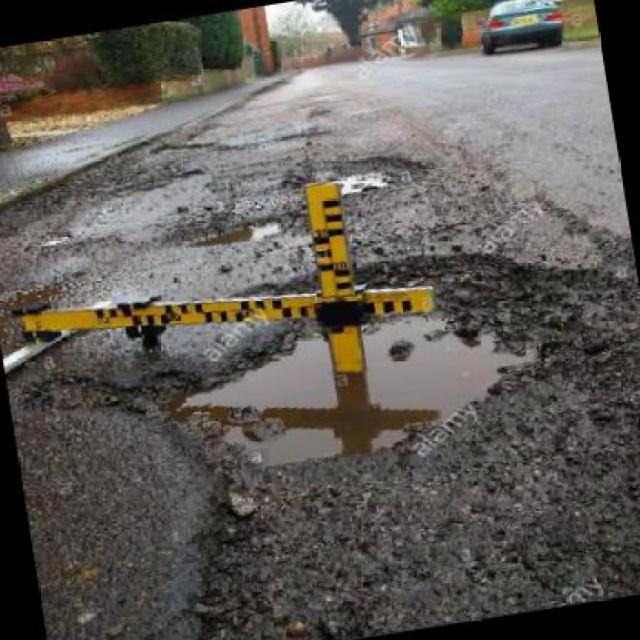pothole1: (127, 212, 638, 556), (279, 136, 430, 207), (173, 210, 289, 252)
